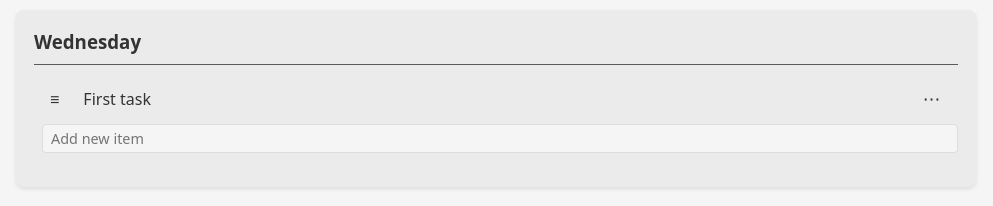
DayCard › positions the caret where the user clicked inside the item text
Click the text "r" at (99, 99), box 96,88 -> 102,110
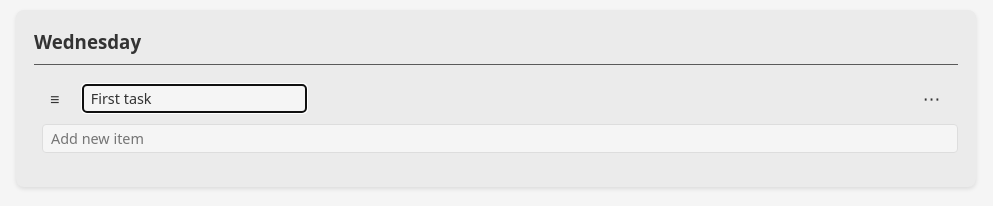
Now the field named "Edit First task" is shown, box 82,84 -> 307,113
